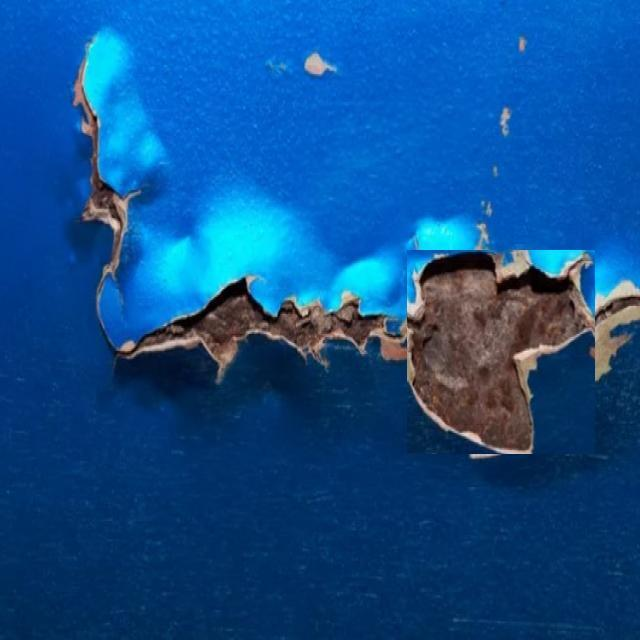Corrosion: (408, 252, 594, 454), (117, 276, 406, 384), (72, 58, 141, 292)
